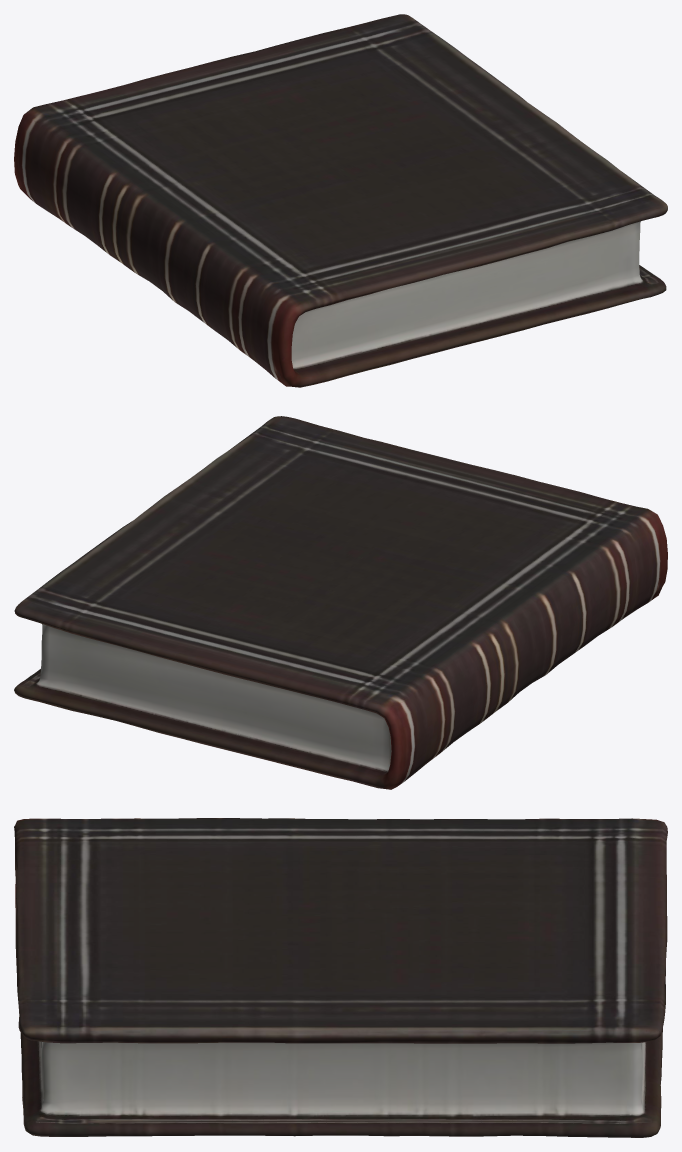
Rendered from 37edfe0fe056_book__3d_asset_0_gl.fbx.
The picture shows the model from 3 angles, top to bottom: view 1: azimuth 30°, elevation 25°; view 2: azimuth 150°, elevation 25°; view 3: azimuth 270°, elevation 25°; orthographic projection. The views are drawn at different scales.
Visible parts, largest first — view 1: mesh; view 2: mesh; view 3: mesh.
Boxes of the visible parts, x1=… form: mesh: x1=14, y1=14, x2=667, y2=387; mesh: x1=14, y1=416, x2=667, y2=789; mesh: x1=14, y1=818, x2=667, y2=1137.
Bounding box in the file's own units: 83.42 × 18.72 × 99.83.
